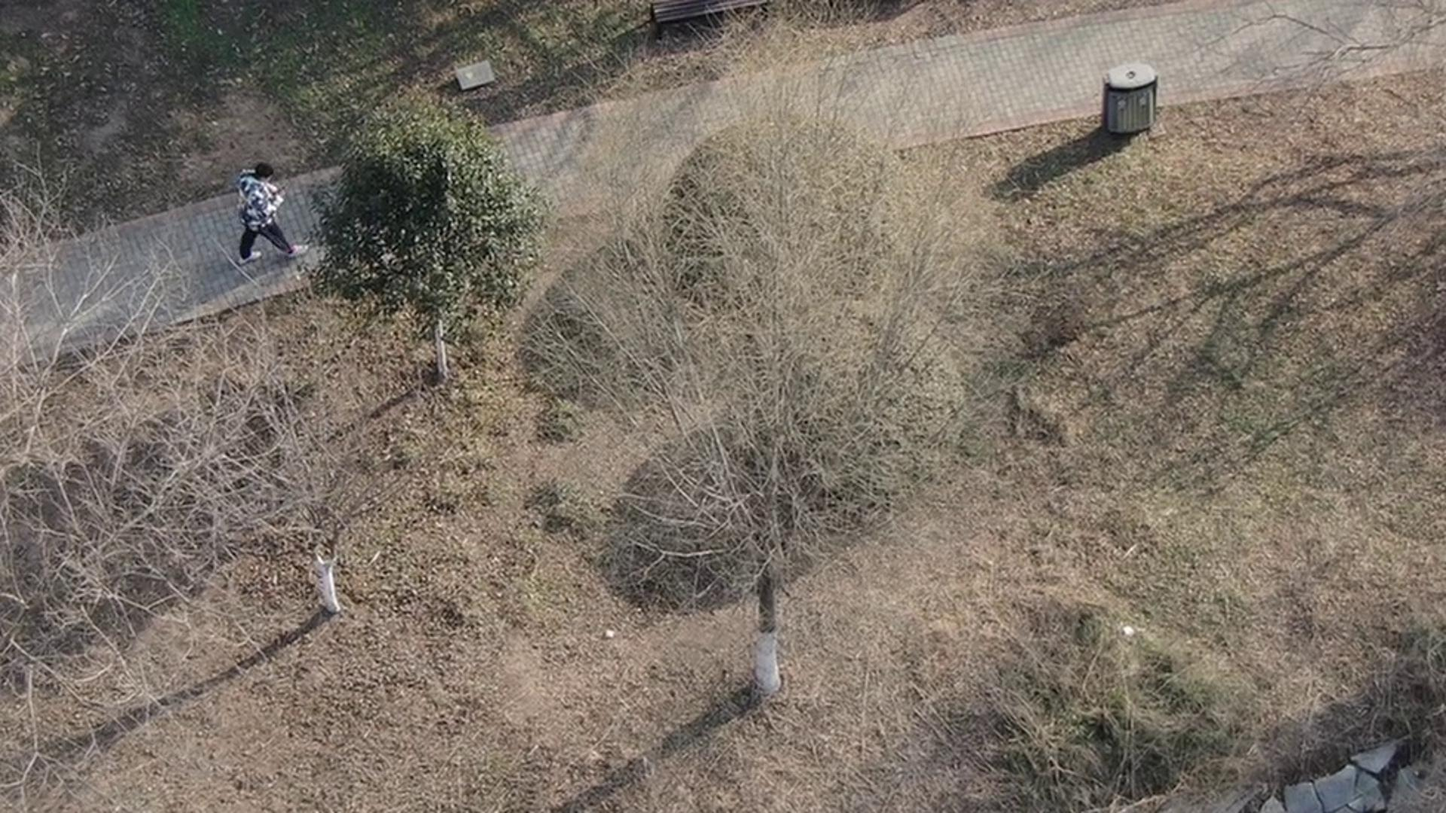human: (251, 167, 325, 278)
